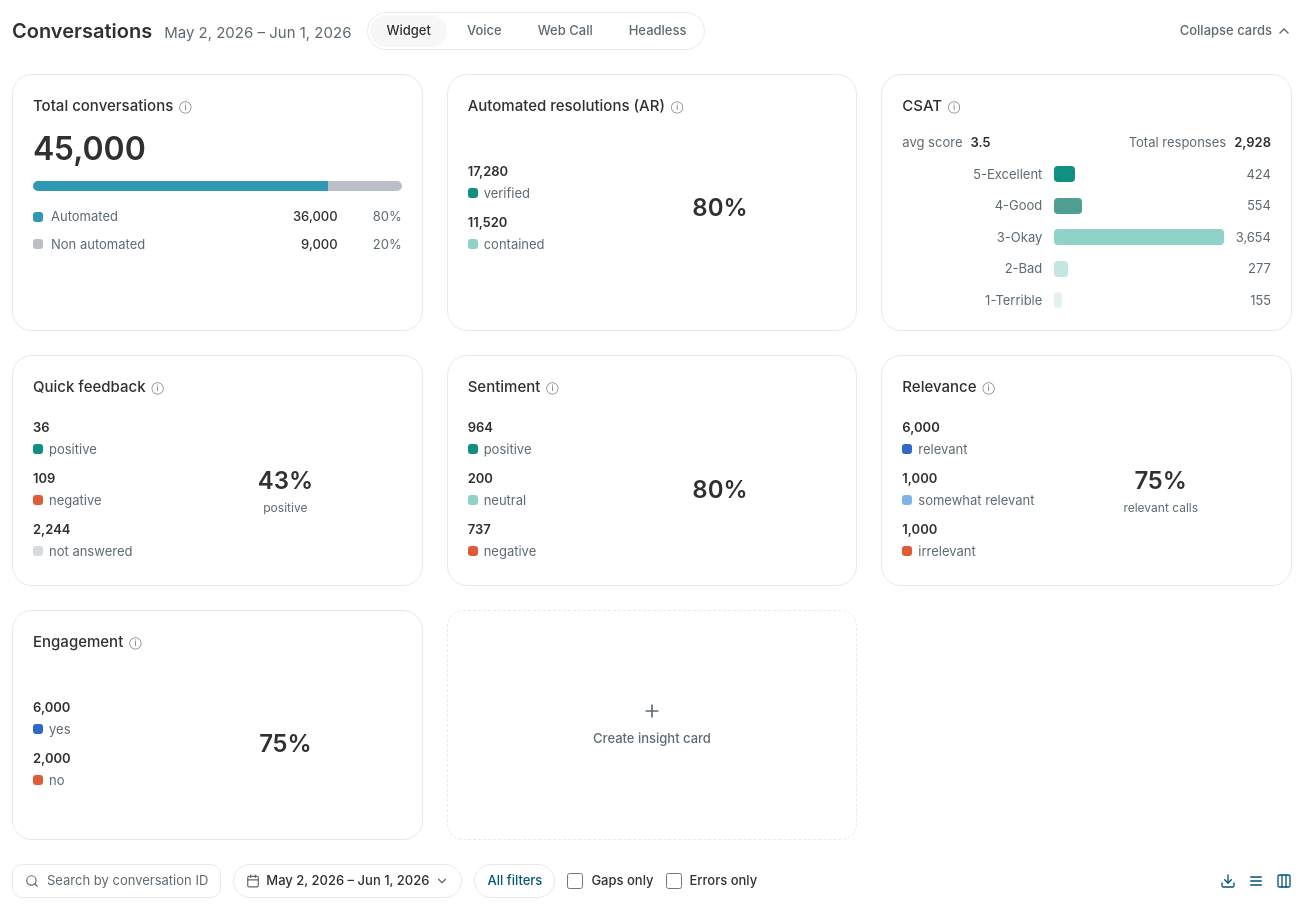
it: ConversationsView › shows a Create insight card tile for every channel except Headless
Expected: the button "Create insight card" is shown, [447,610,857,840]
Click the tab "Headless". click: point(658, 31)
box: [613,15,702,46]
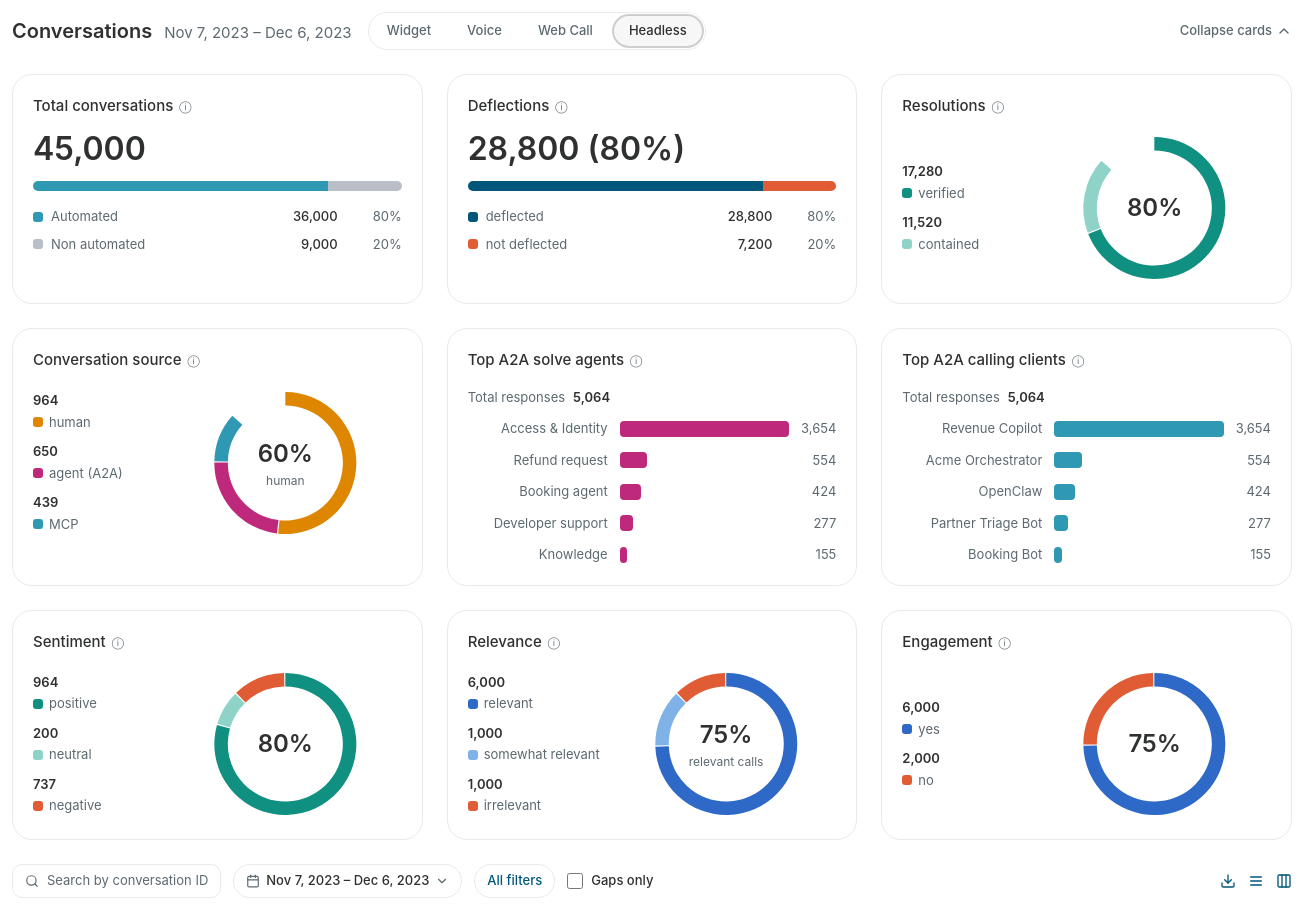
Expected: the button "Create insight card" is gone
